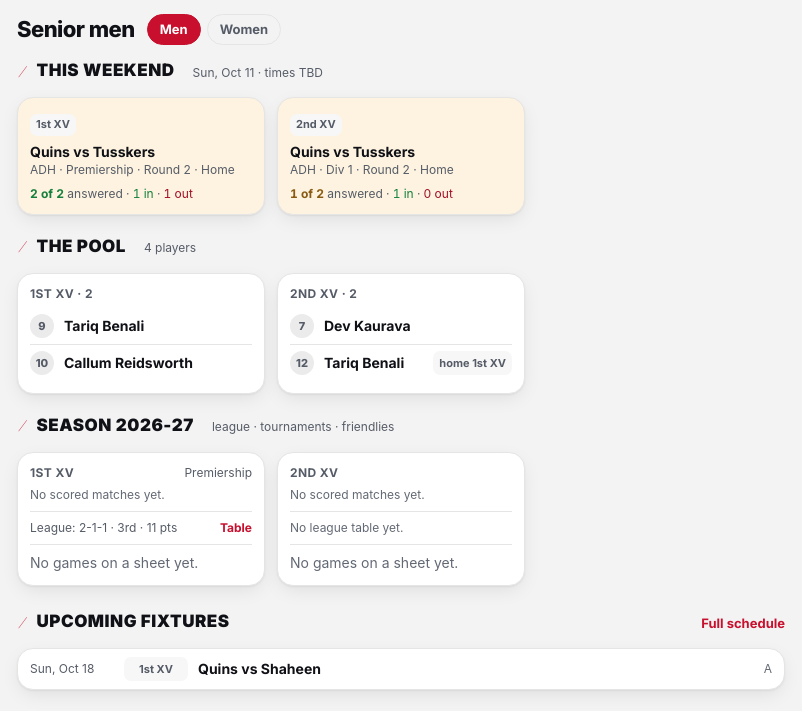
Test: the senior section — a 2nd XV player › ⚠️ the women’s section is fixtures only for him: no pool, no counts, and it says why
expect the heading "Senior men" is shown: met, box [17,12,135,47]
Click the button "Women".
click(244, 30)  # box [207,14,281,45]
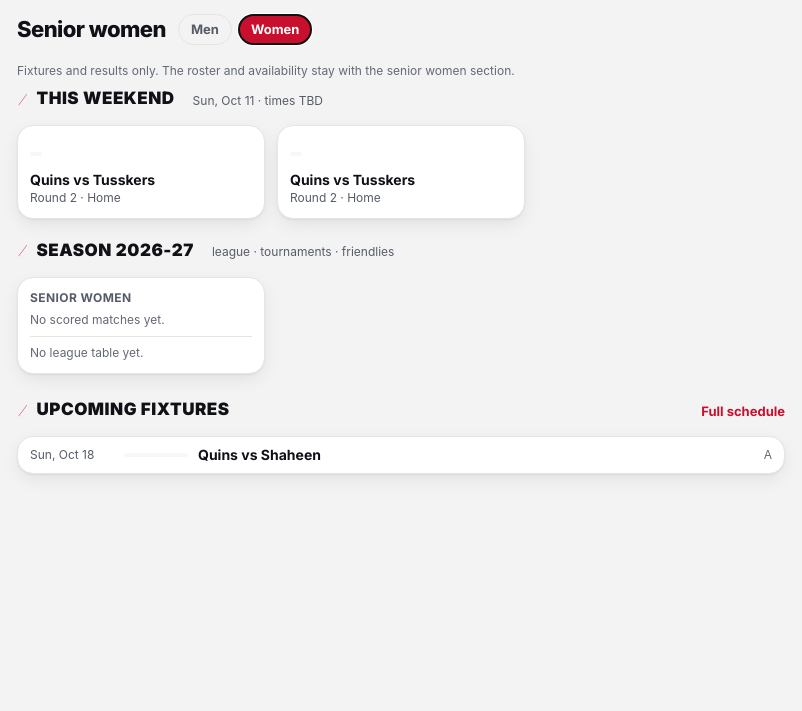
expect the heading "Senior women" is shown: met, box [17,12,166,47]
expect the text with test id "foreign-section-note" shows "Fixtures and results only": met, box [17,63,387,78]
expect the element with test id "pool" is gone: met
